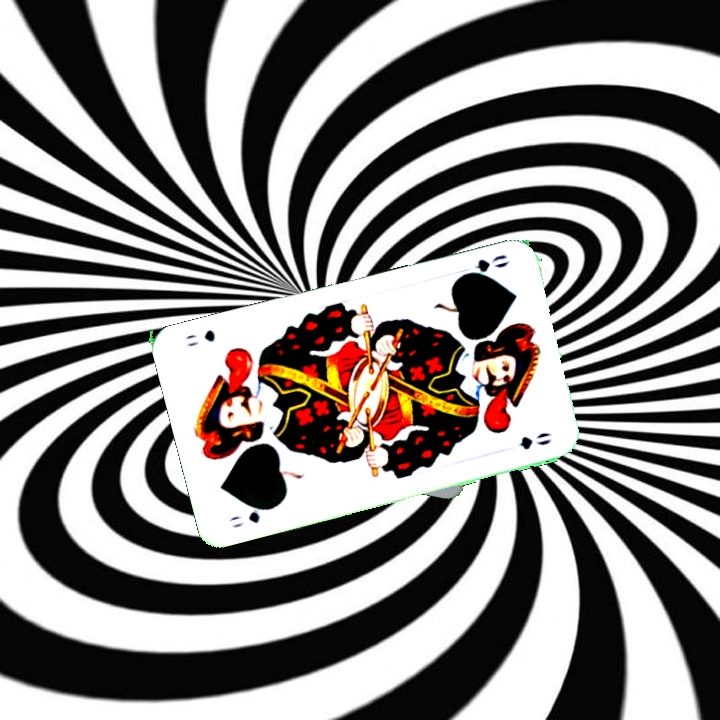GO: (456, 250, 512, 280), (225, 501, 278, 531)
